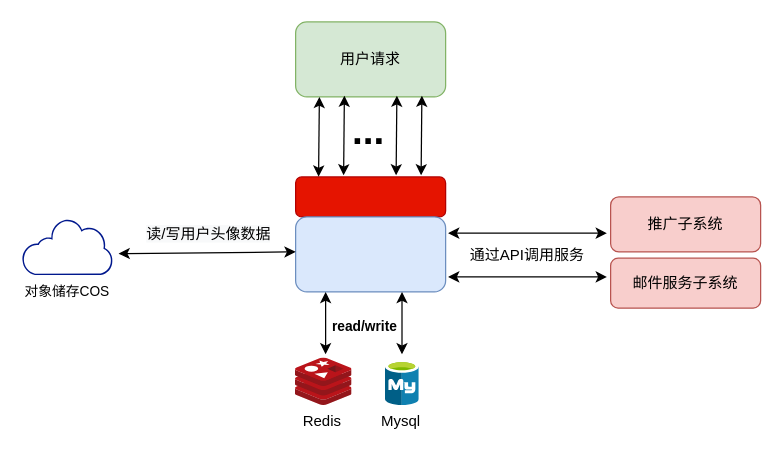
This 783x455 diagram has some shape labels left out. Here are the shapes that lost their labels. From the top down, the centre of each, then its label:
At pixel 370 196: "认证、授权".
At pixel 370 254: "短链子系统后端".
